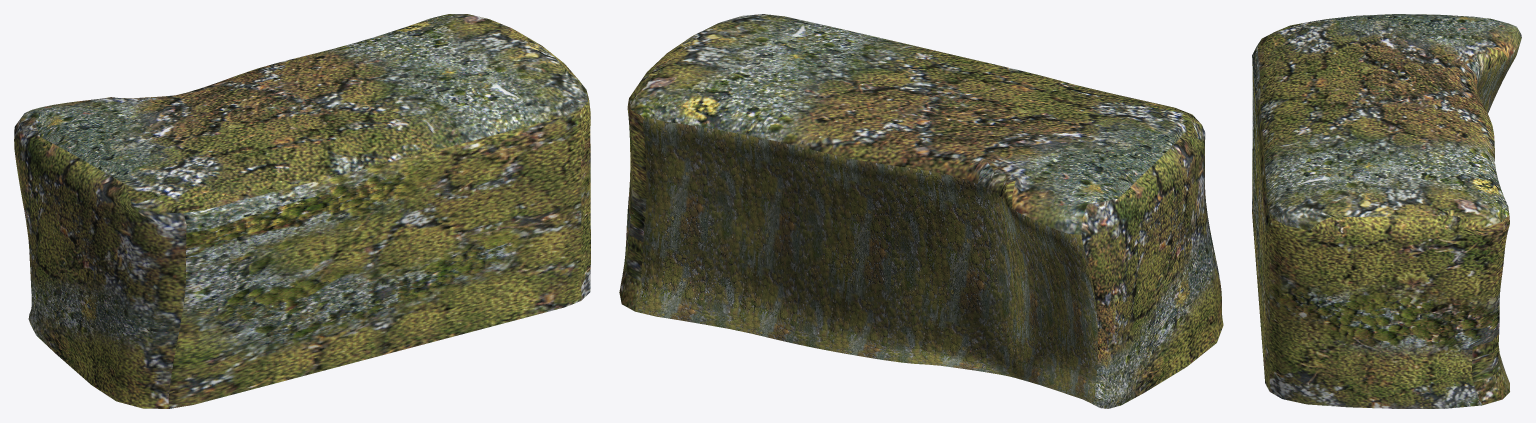
Rendered from xuanya_2.FBX.
The picture shows the model from 3 angles, left to right: view 1: azimuth 30°, elevation 25°; view 2: azimuth 150°, elevation 25°; view 3: azimuth 270°, elevation 25°; orthographic projection. The views are drawn at different scales.
Visible parts, largest first — view 1: shanti5; view 2: shanti5; view 3: shanti5.
Boxes of the visible parts, left/top/right/bottom form: shanti5: left=14, top=14, right=590, bottom=408; shanti5: left=619, top=14, right=1223, bottom=408; shanti5: left=1252, top=14, right=1521, bottom=408.
Bounding box in the file's own units: 2814 × 1196 × 1471.
Materials: 1 (1 with a texture image).
